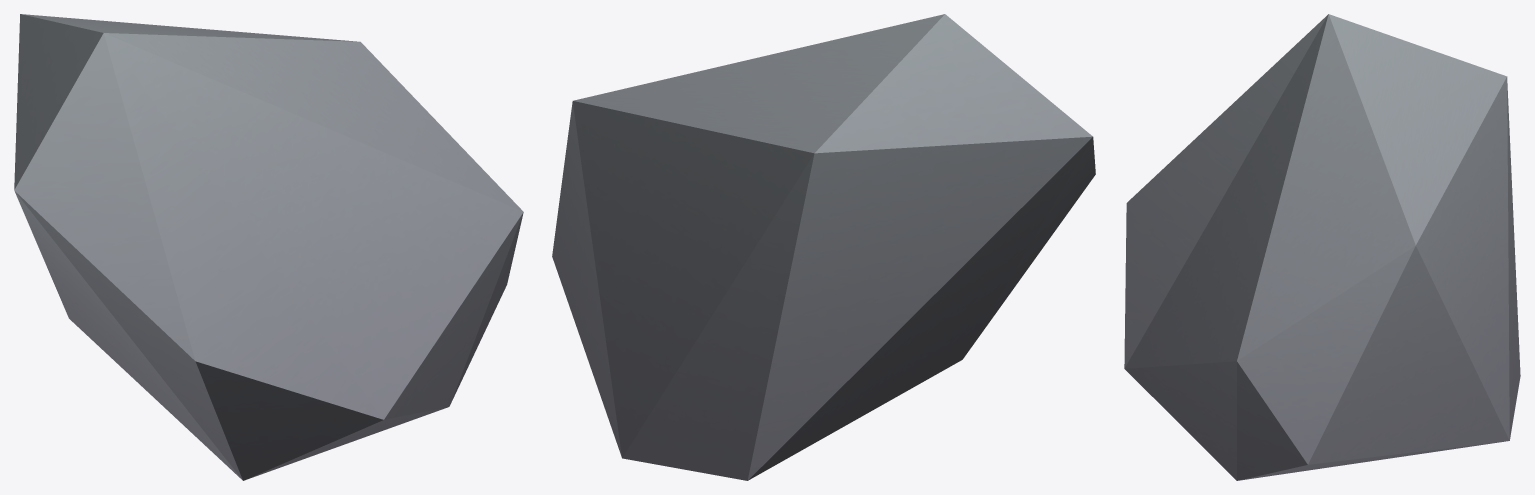
Rendered from Rock1.FBX.
3 views of the same model, side by side, from view 1: azimuth 30°, elevation 25°; view 2: azimuth 150°, elevation 25°; view 3: azimuth 270°, elevation 25° (orthographic). The views are drawn at different scales.
Parts seen in each view (by area): view 1: Rock1; view 2: Rock1; view 3: Rock1.
Boxes of the visible parts, bbox=[...] form: Rock1: bbox=[14, 14, 523, 480]; Rock1: bbox=[552, 14, 1095, 480]; Rock1: bbox=[1124, 14, 1520, 480].
Size of the model in its own units: 126 by 96.64 by 100.
